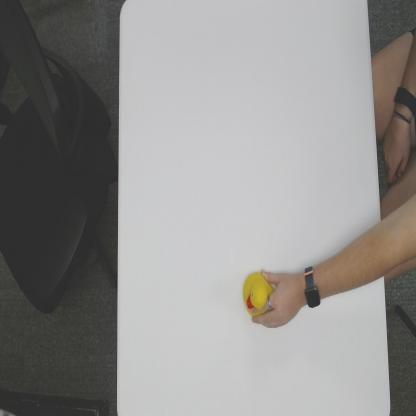Arm: (320, 218, 385, 298)
Duck: (242, 270, 275, 317)
Hand: (252, 268, 302, 330)
